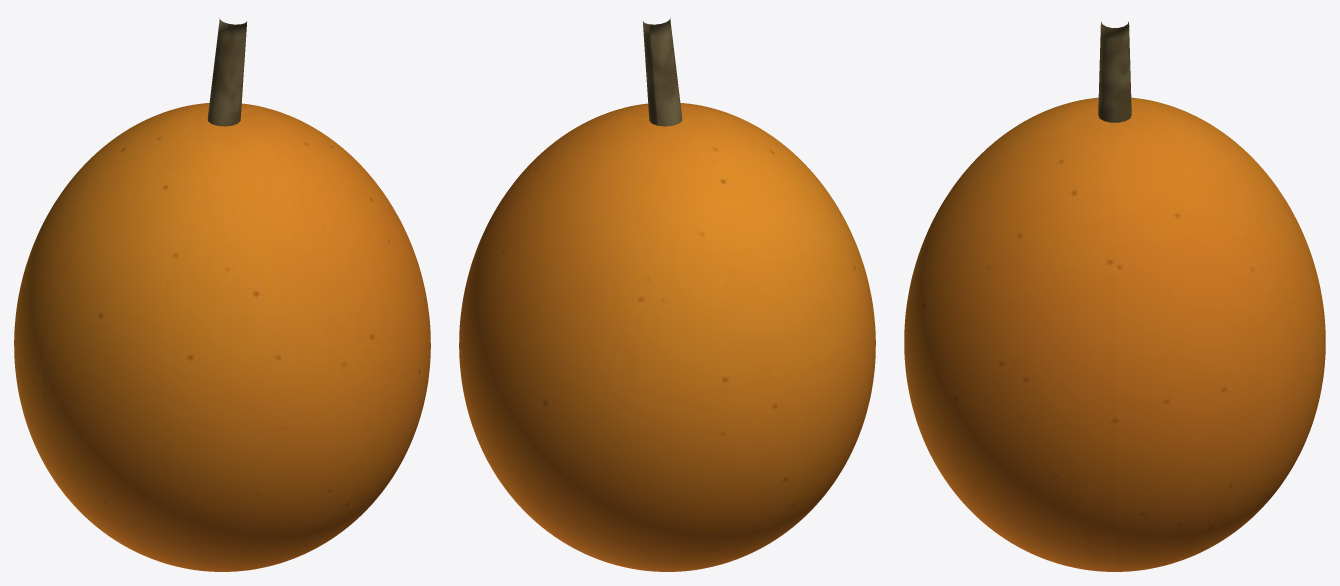
The model's file is bibasse.glb.
3 views of the same model, side by side, from view 1: azimuth 30°, elevation 25°; view 2: azimuth 150°, elevation 25°; view 3: azimuth 270°, elevation 25° (orthographic).
Visible parts, largest first — view 1: entier_peau, moitie_A_peau, moitie_B_peau, entier_extra5; view 2: entier_peau, moitie_B_peau, moitie_A_peau, entier_extra5; view 3: entier_peau, moitie_A_peau, moitie_B_peau, entier_extra5.
Boxes of the visible parts, x1,y1,x2,y2 form: entier_peau: (14,103,429,571); moitie_A_peau: (42,114,430,571); moitie_B_peau: (14,103,321,527); entier_extra5: (207,18,247,126); entier_peau: (459,104,875,571); moitie_B_peau: (459,114,847,571); moitie_A_peau: (568,103,875,527); entier_extra5: (642,18,682,126); entier_peau: (904,98,1325,571); moitie_A_peau: (928,97,1114,571); moitie_B_peau: (1115,97,1301,571); entier_extra5: (1098,21,1131,122).
Size of the model in its own units: 0.039 by 0.0551 by 0.039.
4 materials, 4 textured.
